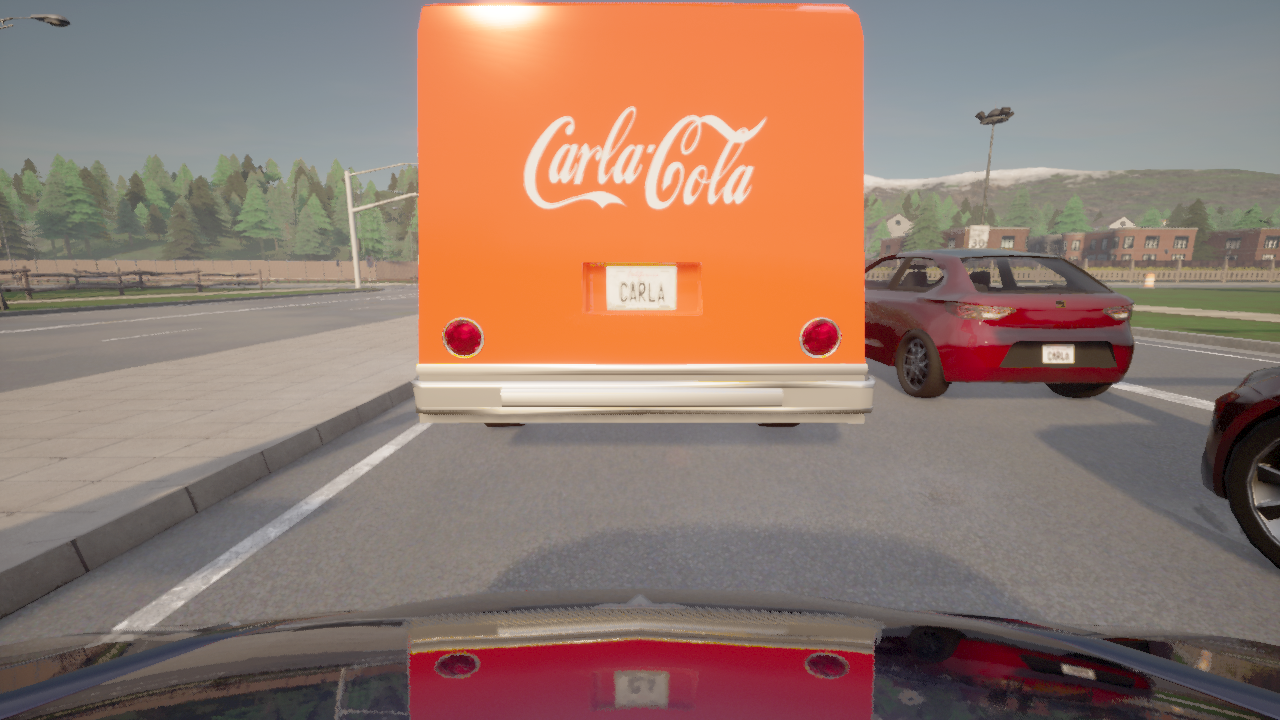cyclist: (412, 4, 875, 426), (0, 588, 1279, 719), (864, 248, 1134, 398), (1201, 366, 1279, 569)
